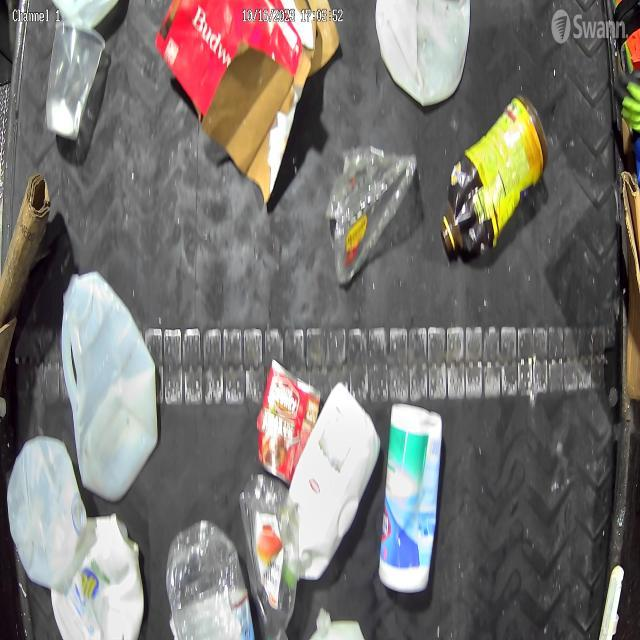milk_jug: (58, 260, 158, 492), (277, 384, 381, 572), (4, 433, 86, 584), (377, 0, 467, 114)
plastic_bottle: (164, 521, 255, 640), (326, 145, 413, 269), (242, 465, 300, 640), (48, 12, 102, 142)
